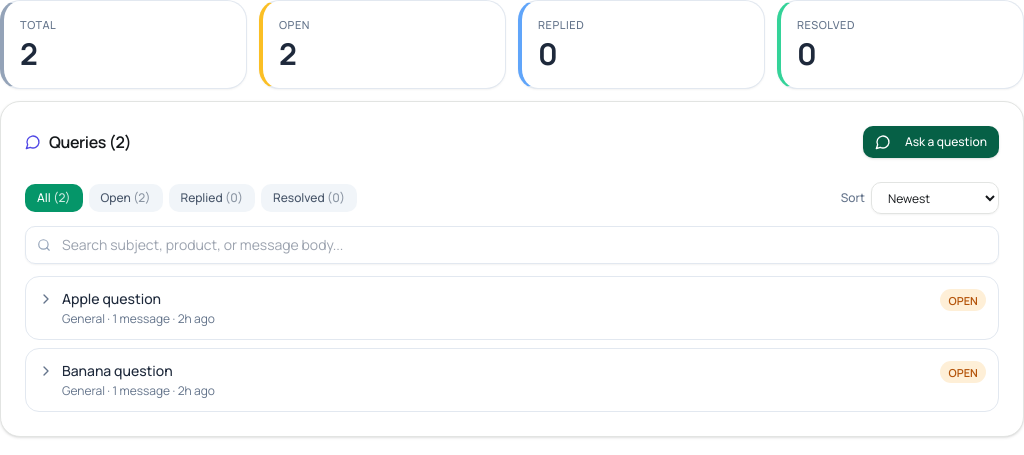
Test: OrderQueriesTab — filter + search › search filters queries by subject (debounced)
Expected: the element with test id "query-card-a" is shown, [25, 276, 999, 340]
Type "apple" into the field with test id "queries-search-input" at (512, 245), box [25, 226, 999, 264]
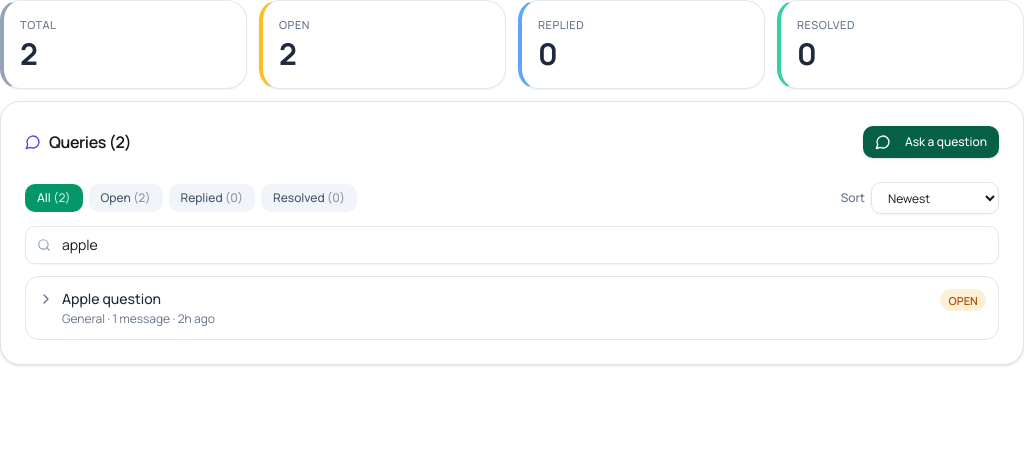
Expected: the element with test id "query-card-a" is shown, [25, 276, 999, 340]
Now the element with test id "query-card-b" is gone
